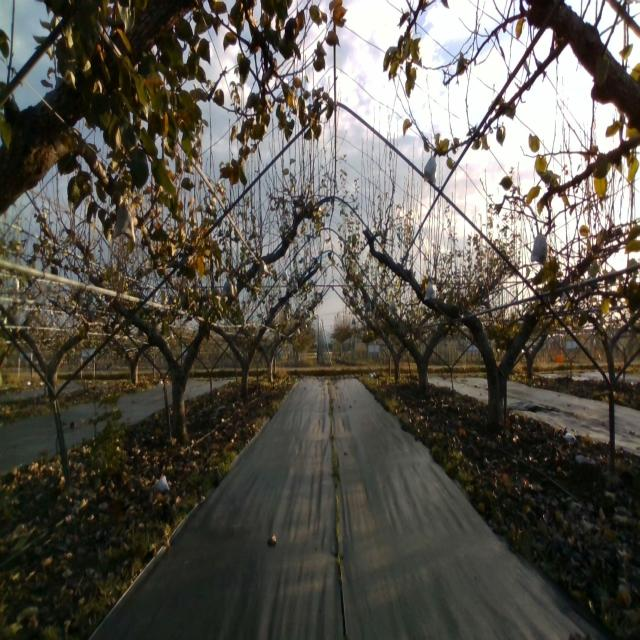pearbags: (112, 200, 136, 243), (530, 229, 548, 264), (424, 151, 437, 185), (257, 259, 273, 281), (221, 276, 235, 299), (424, 280, 439, 300)
